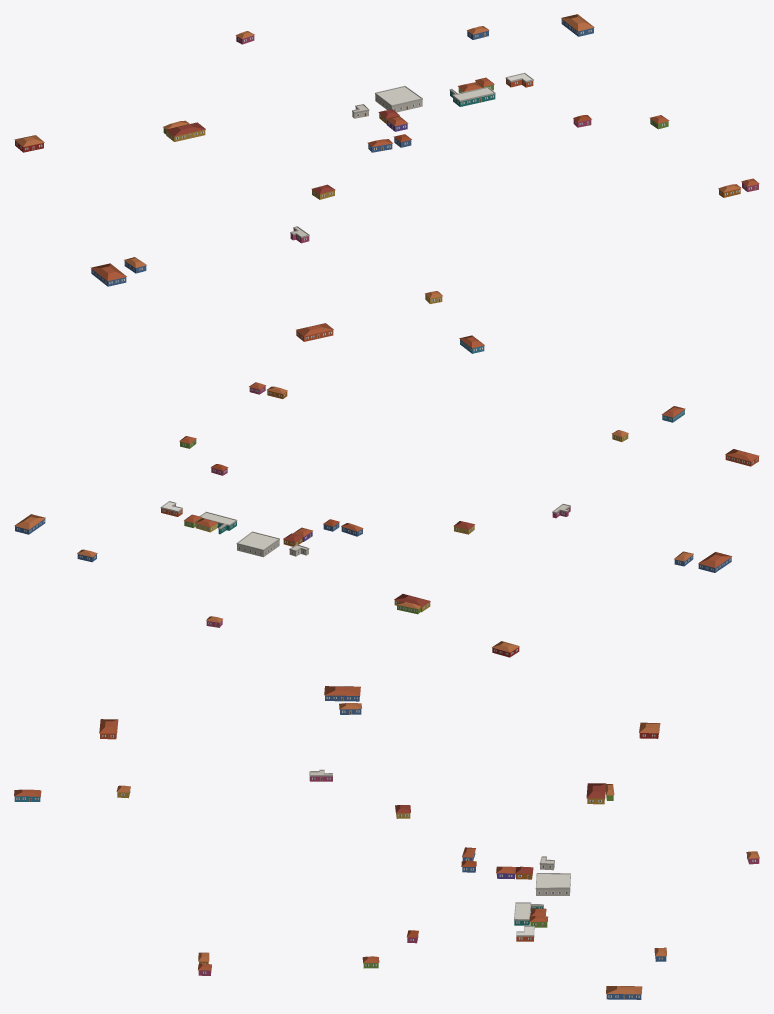
File: msb_noord_m17_m7.glb
3 views of the same model, one above another, from view 1: azimuth 30°, elevation 25°; view 2: azimuth 150°, elevation 25°; view 3: azimuth 270°, elevation 25° (orthographic). The views are drawn at different scales.
Parts seen in each view (by area): view 1: msb_noord_m17_m7_lod0; view 2: msb_noord_m17_m7_lod0; view 3: msb_noord_m17_m7_lod0.
Boxes of the visible parts, x1=… form: msb_noord_m17_m7_lod0: x1=14, y1=14, x2=759, y2=353; msb_noord_m17_m7_lod0: x1=14, y1=382, x2=759, y2=657; msb_noord_m17_m7_lod0: x1=14, y1=686, x2=759, y2=999.
Size of what is drawn, in the model's own units: 393 by 12.01 by 407.
Materials: 3 (1 with a texture image).
